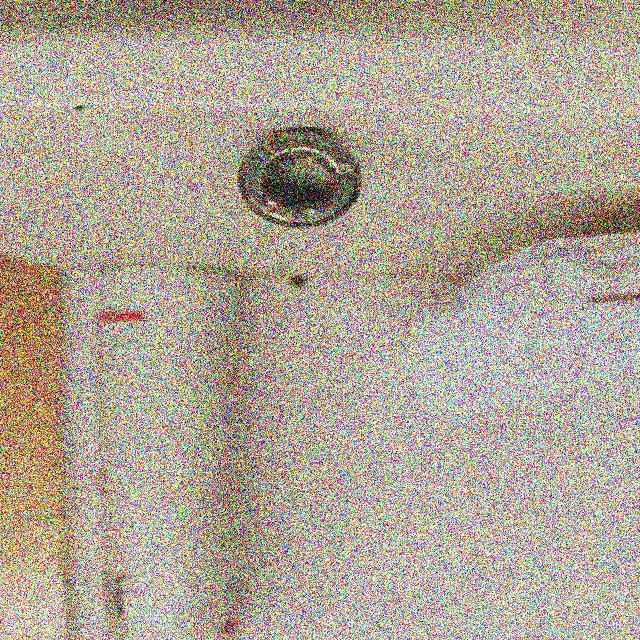allen: (237, 129, 363, 230)
